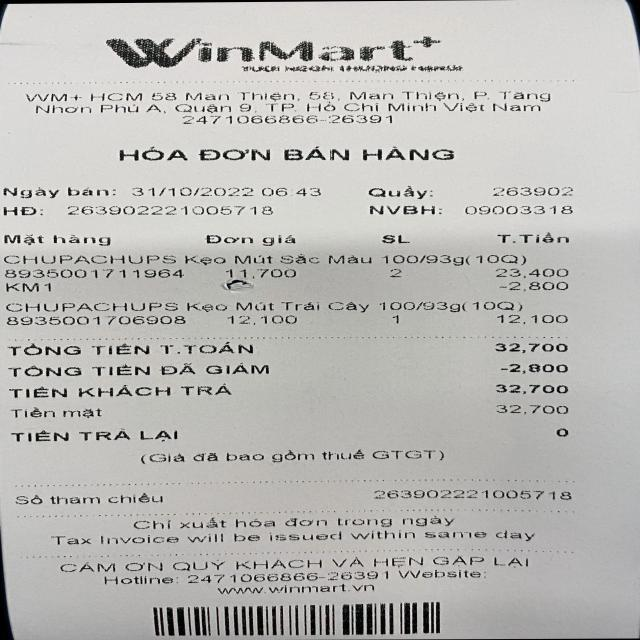Date: (126, 184, 262, 200)
Store_Name: (100, 36, 516, 76)
amount_number: (488, 338, 581, 358)
label_total: (7, 341, 264, 356)
